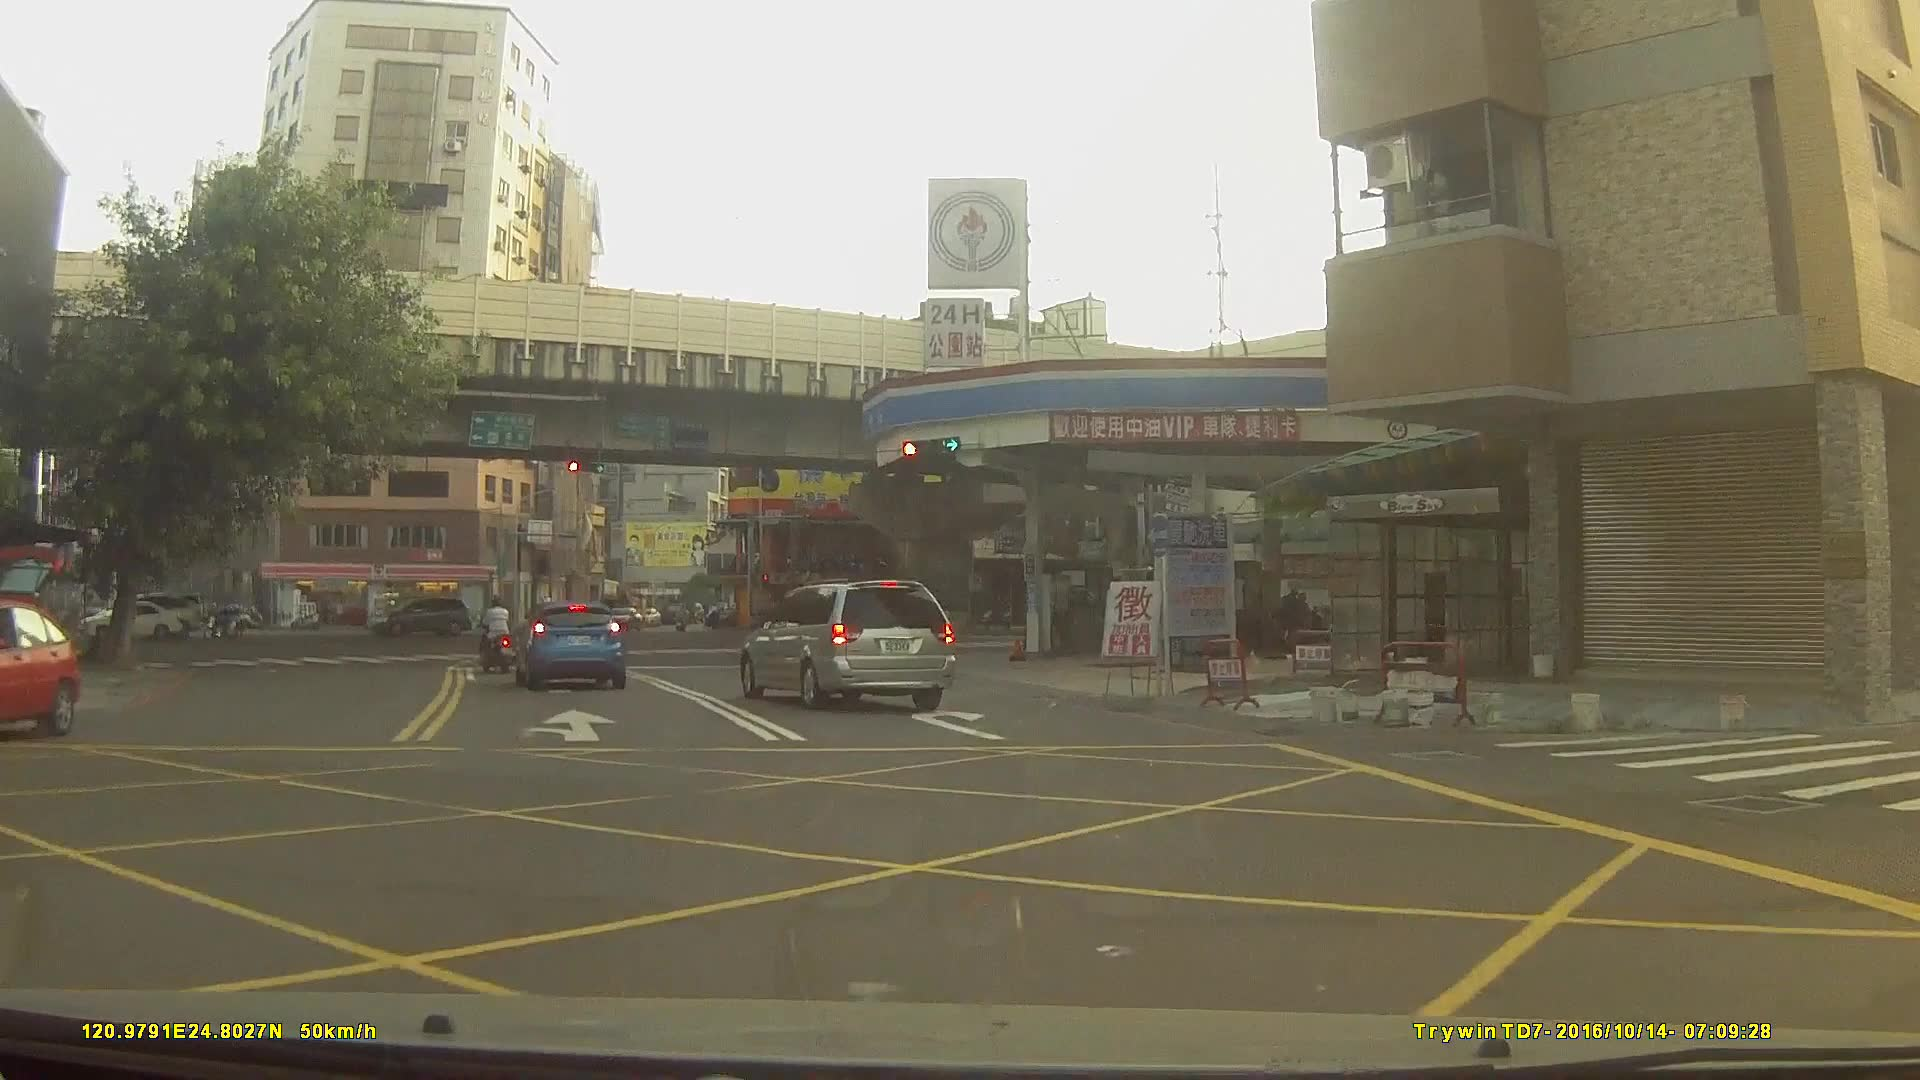rider: (478, 602, 516, 677), (206, 619, 233, 651)
vehicle: (740, 577, 957, 712), (0, 600, 77, 742), (517, 599, 627, 689), (77, 599, 183, 644), (365, 594, 471, 634), (530, 604, 609, 643)
